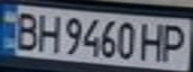0: (115, 19, 139, 61)
4: (81, 16, 103, 57)
6: (100, 17, 121, 60)
9: (60, 14, 84, 56)
B: (9, 8, 42, 52)
H: (136, 20, 169, 62), (33, 10, 63, 53)
P: (157, 21, 190, 64)
